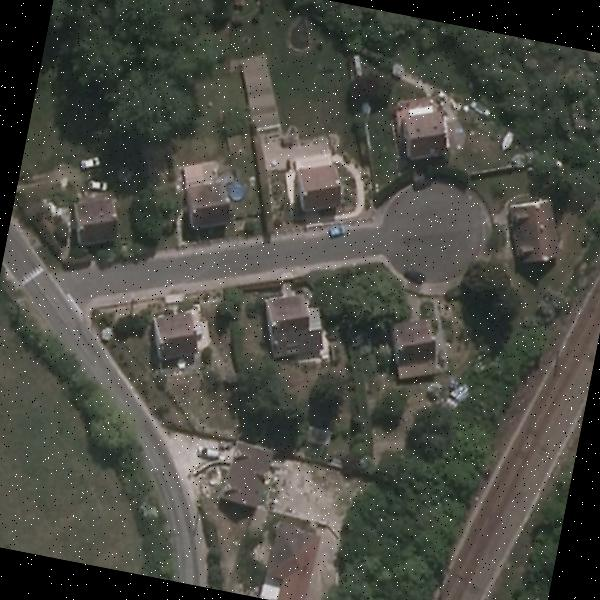Buildings: (256, 281, 332, 358), (293, 149, 351, 216), (220, 440, 276, 507), (186, 166, 236, 232), (507, 198, 556, 262), (392, 102, 446, 156), (68, 189, 120, 244), (148, 309, 198, 361), (390, 325, 440, 368)
